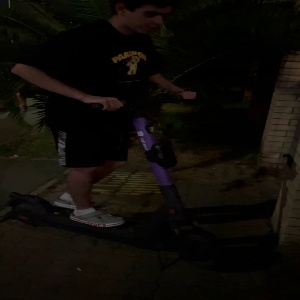human on a scooter: (9, 1, 231, 270)
